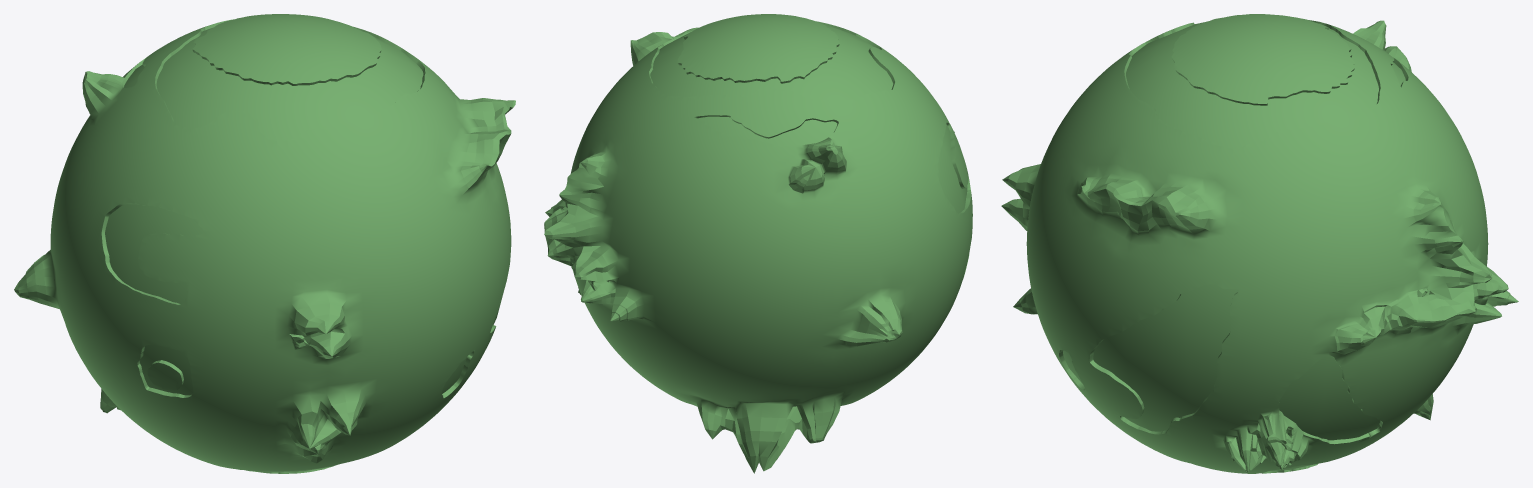
Rendered from 19_05_Planet_it2.fbx.
The picture shows the model from 3 angles, left to right: view 1: azimuth 30°, elevation 25°; view 2: azimuth 150°, elevation 25°; view 3: azimuth 270°, elevation 25°; orthographic projection. The views are drawn at different scales.
Visible parts, largest first — view 1: Planet_OBJ; view 2: Planet_OBJ; view 3: Planet_OBJ.
Part boxes in pixels (left/top/right/bottom): Planet_OBJ: left=14, top=14, right=515, bottom=473; Planet_OBJ: left=544, top=14, right=972, bottom=473; Planet_OBJ: left=1001, top=14, right=1518, bottom=473.
Bounding box in the file's own units: 24.79 × 24.08 × 26.94.
